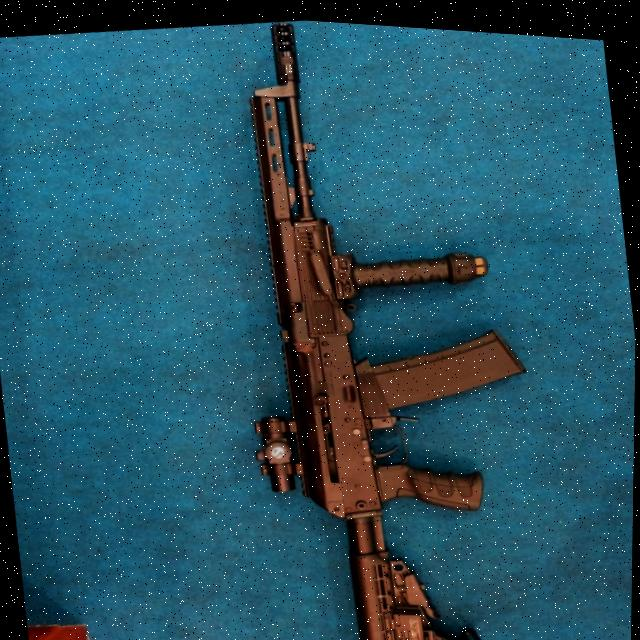firearm: (203, 11, 560, 640)
